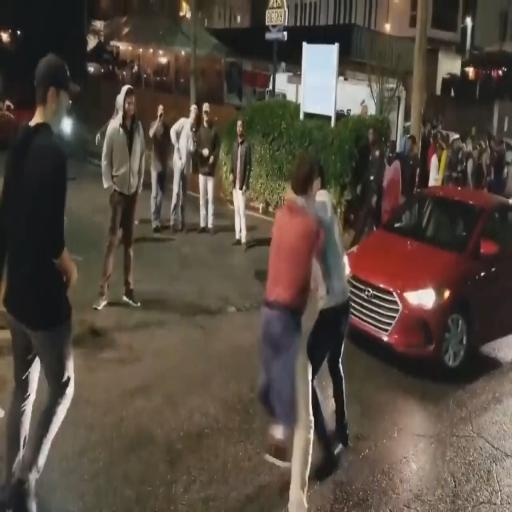violencia: (248, 142, 360, 512)
